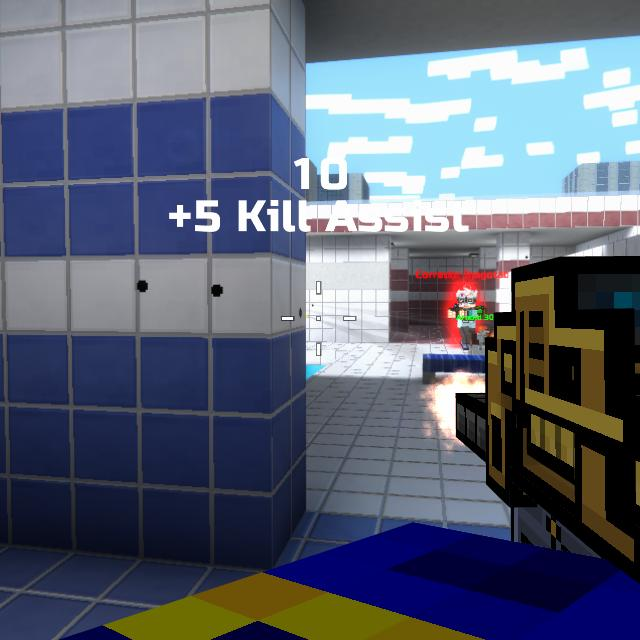Enemy: (450, 292, 488, 351)
